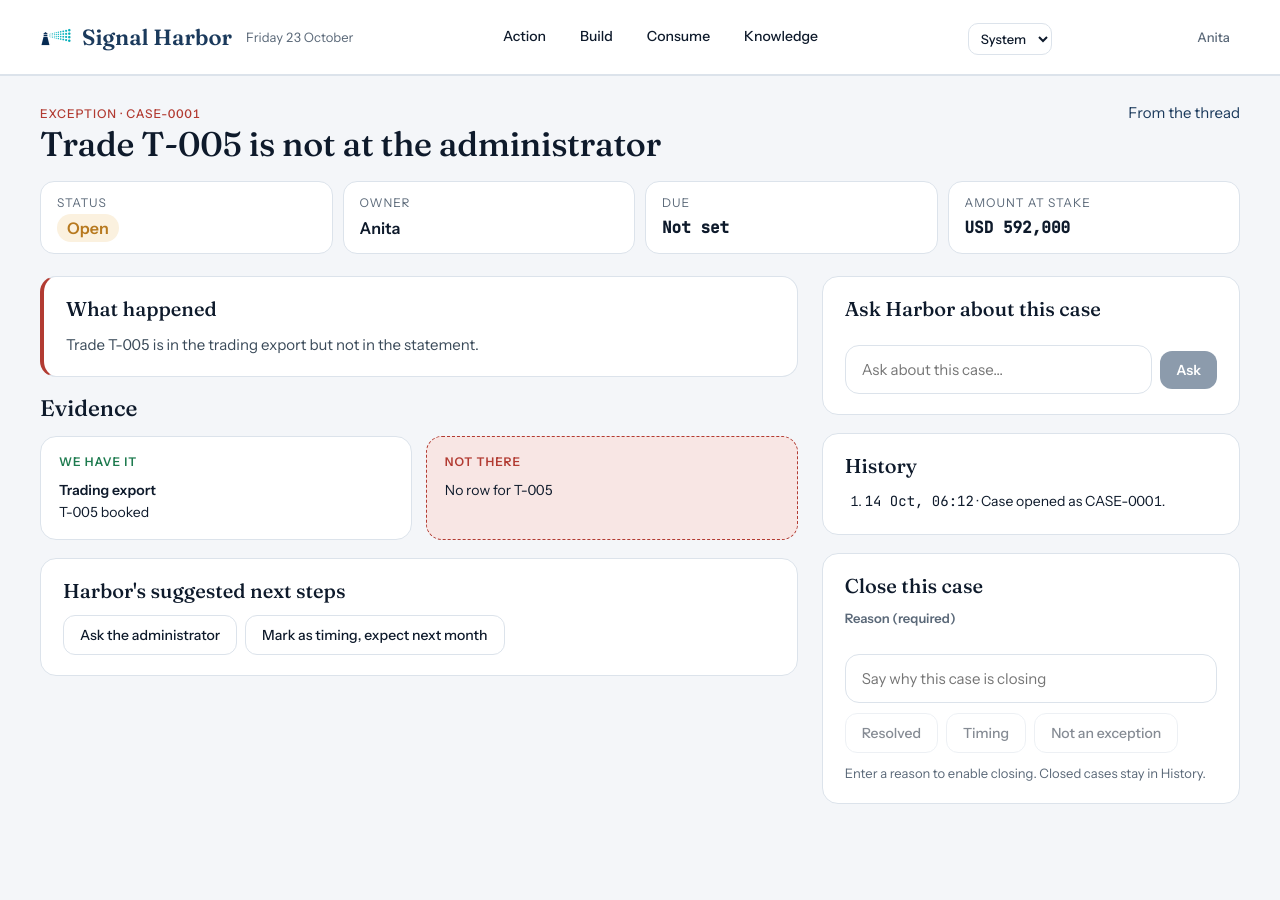
Test: closing needs a reason, then posts it and shows the case closed
The width and height of the screenshot is (1280, 900).
Expected: the button "Resolved" is disabled, [845,713,938,753]
Type "Booked on the 3rd." into the field labelled "Reason (required)".
click(1031, 679); type("Booked on the 3rd.")  # box [845,654,1217,703]
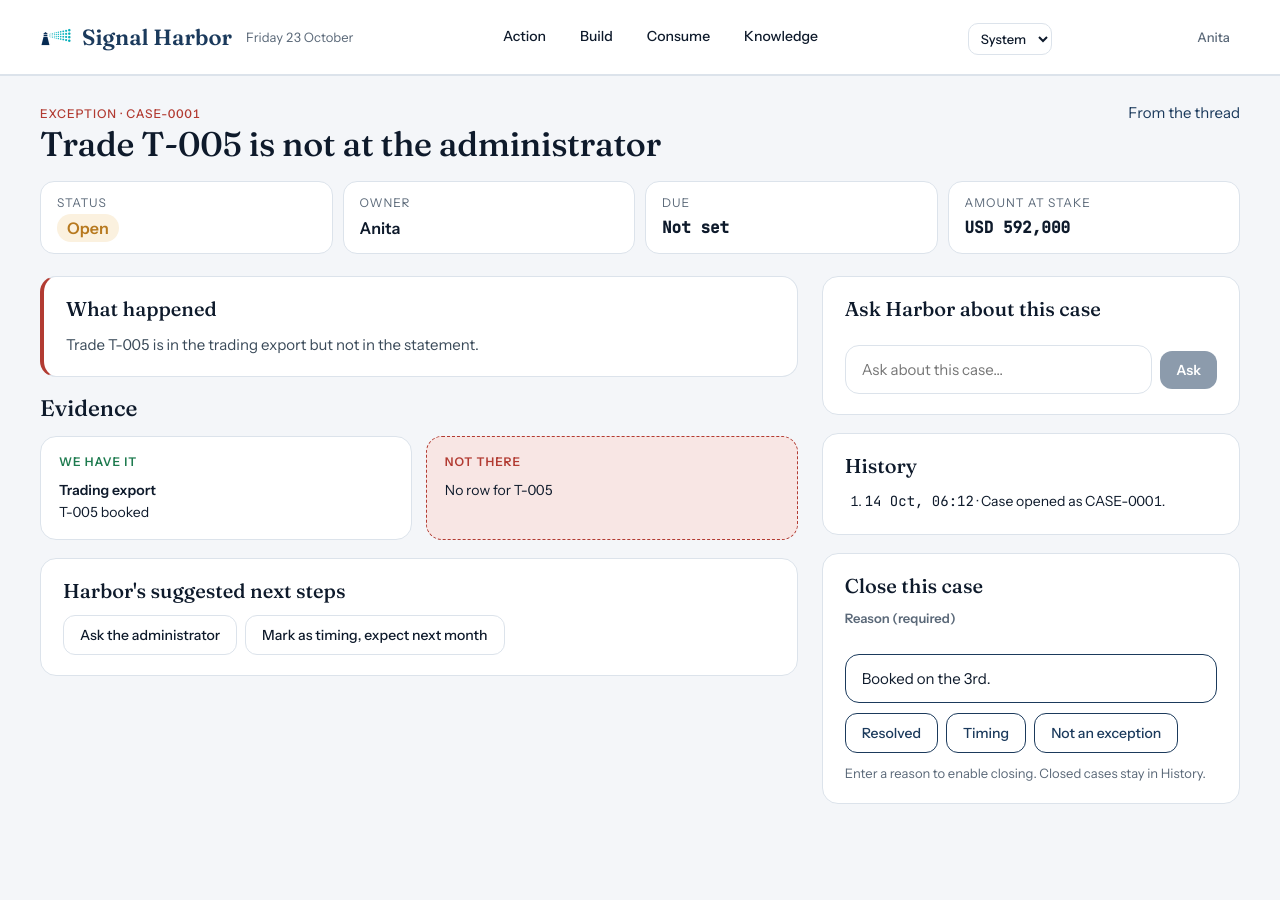
Result: the button "Resolved" is enabled
Click the button "Resolved".
click(891, 733)  # box [845,713,938,753]
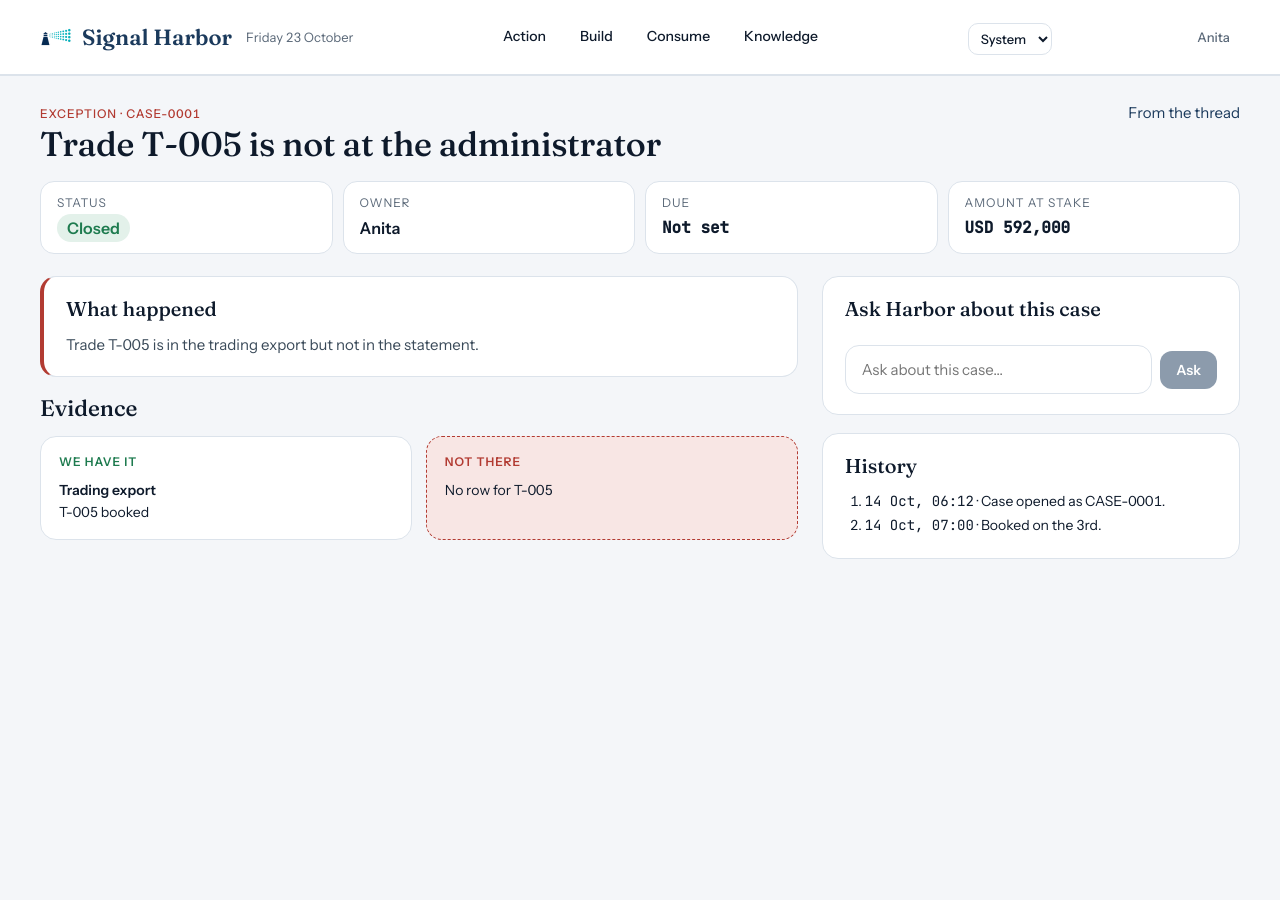
Result: the text "Closed" is shown at [57,214,130,242]
Result: the button "Resolved" is gone
